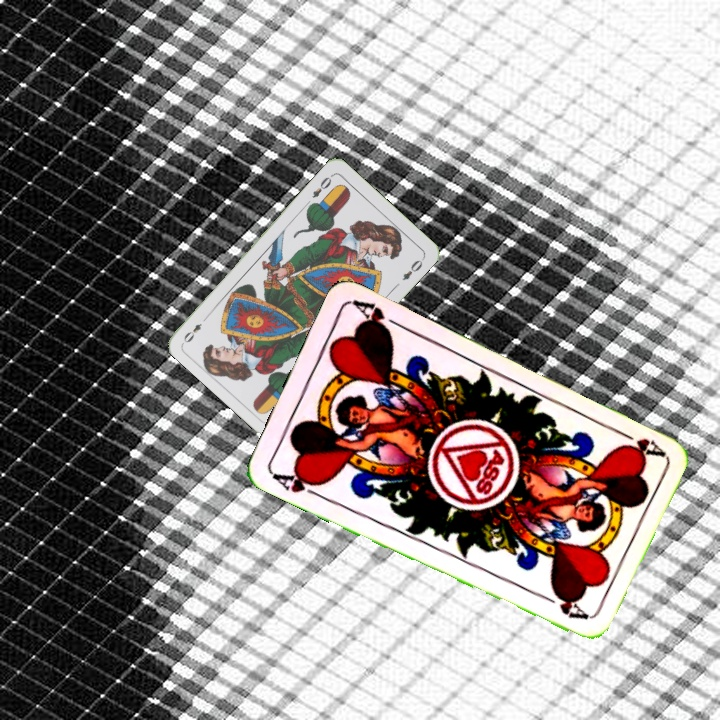EO: (308, 170, 335, 201)
HA: (610, 425, 666, 460), (268, 467, 327, 500)
